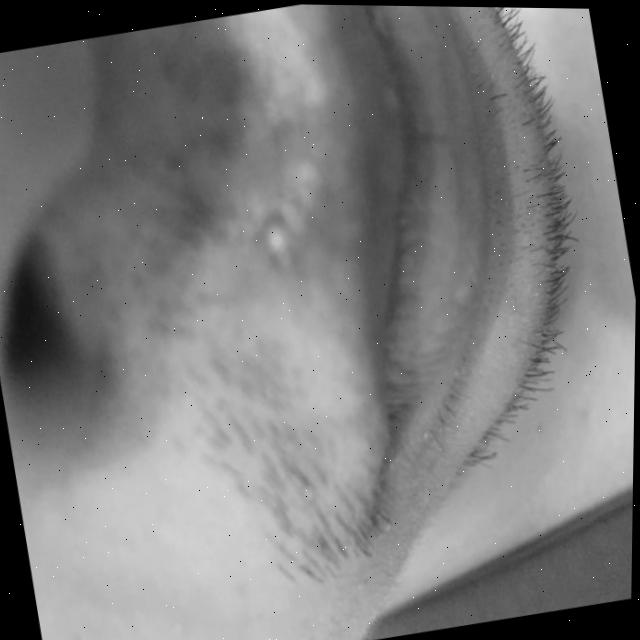Acne: (257, 206, 304, 262)
